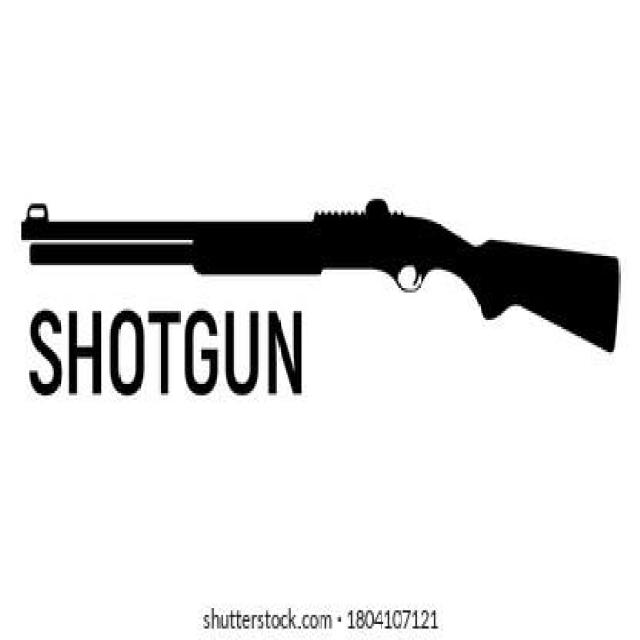weapon: (15, 196, 634, 356)
